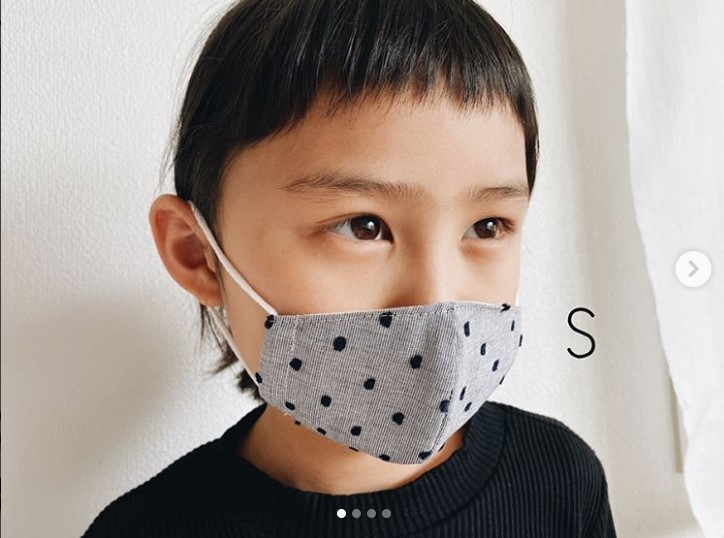face_with_mask: (152, 6, 540, 467)
